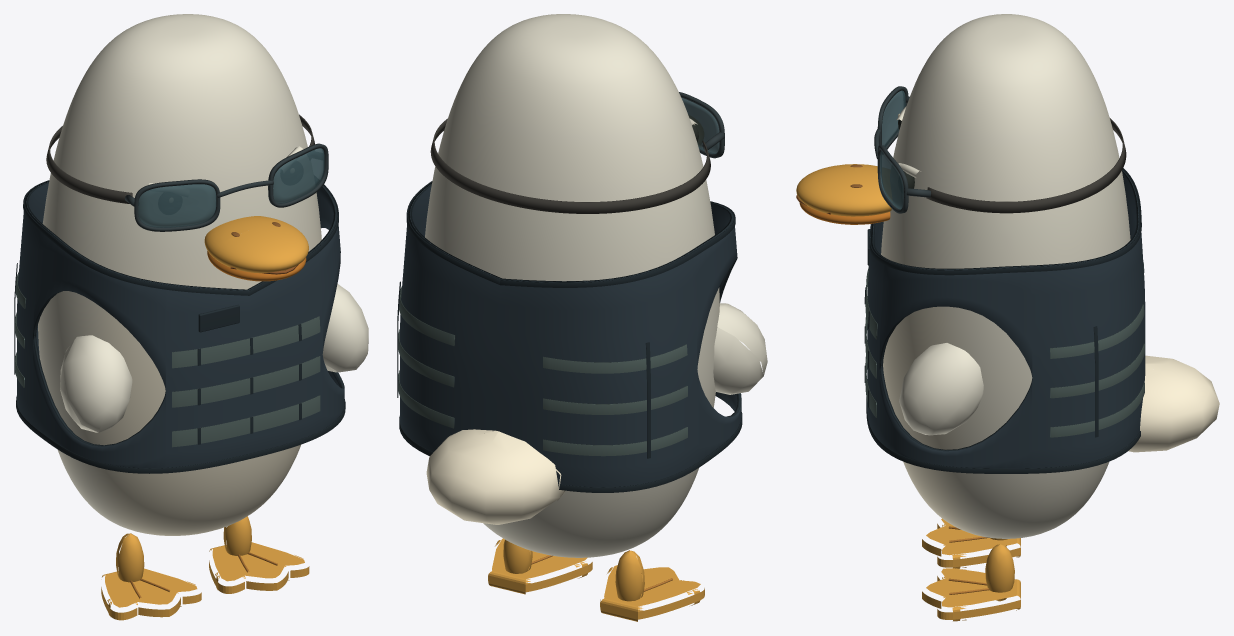
File: goose-face-goggles-character.glb
The picture shows the model from 3 angles, left to right: view 1: azimuth 30°, elevation 25°; view 2: azimuth 150°, elevation 25°; view 3: azimuth 270°, elevation 25°; orthographic projection. The views are drawn at different scales.
Parts seen in each view (by area): view 1: goose_torso_mesh, goose_vest_refined_mesh, goose_face_goggles_mesh, goose_leftArm_mesh, goose_beak_mesh, goose_leftFoot_mesh, goose_rightFoot_mesh, goose_rightArm_mesh; view 2: goose_torso_mesh, goose_vest_refined_mesh, goose_tail_mesh, goose_face_goggles_mesh, goose_leftFoot_mesh, goose_leftArm_mesh, goose_rightFoot_mesh; view 3: goose_torso_mesh, goose_vest_refined_mesh, goose_rightArm_mesh, goose_tail_mesh, goose_face_goggles_mesh, goose_beak_mesh, goose_rightFoot_mesh, goose_leftFoot_mesh.
Part boxes in pixels (x1,y1,x2,y2): goose_torso_mesh: [38, 14, 321, 535]; goose_vest_refined_mesh: [14, 180, 345, 473]; goose_face_goggles_mesh: [46, 114, 328, 231]; goose_leftArm_mesh: [60, 335, 132, 432]; goose_beak_mesh: [204, 216, 308, 281]; goose_leftFoot_mesh: [101, 533, 201, 620]; goose_rightFoot_mesh: [209, 516, 309, 593]; goose_rightArm_mesh: [322, 284, 368, 372]; goose_torso_mesh: [425, 14, 719, 557]; goose_vest_refined_mesh: [397, 181, 742, 492]; goose_tail_mesh: [426, 429, 565, 524]; goose_face_goggles_mesh: [430, 92, 724, 213]; goose_leftFoot_mesh: [600, 550, 704, 621]; goose_leftArm_mesh: [713, 303, 767, 394]; goose_rightFoot_mesh: [488, 538, 592, 594]; goose_torso_mesh: [881, 14, 1130, 538]; goose_vest_refined_mesh: [864, 168, 1145, 473]; goose_rightArm_mesh: [899, 343, 983, 435]; goose_tail_mesh: [1128, 355, 1219, 452]; goose_face_goggles_mesh: [874, 86, 1126, 213]; goose_beak_mesh: [796, 164, 891, 224]; goose_rightFoot_mesh: [922, 544, 1020, 621]; goose_leftFoot_mesh: [922, 518, 1020, 568].
Size of the model in its own units: 1.1 by 1.94 by 1.37.
